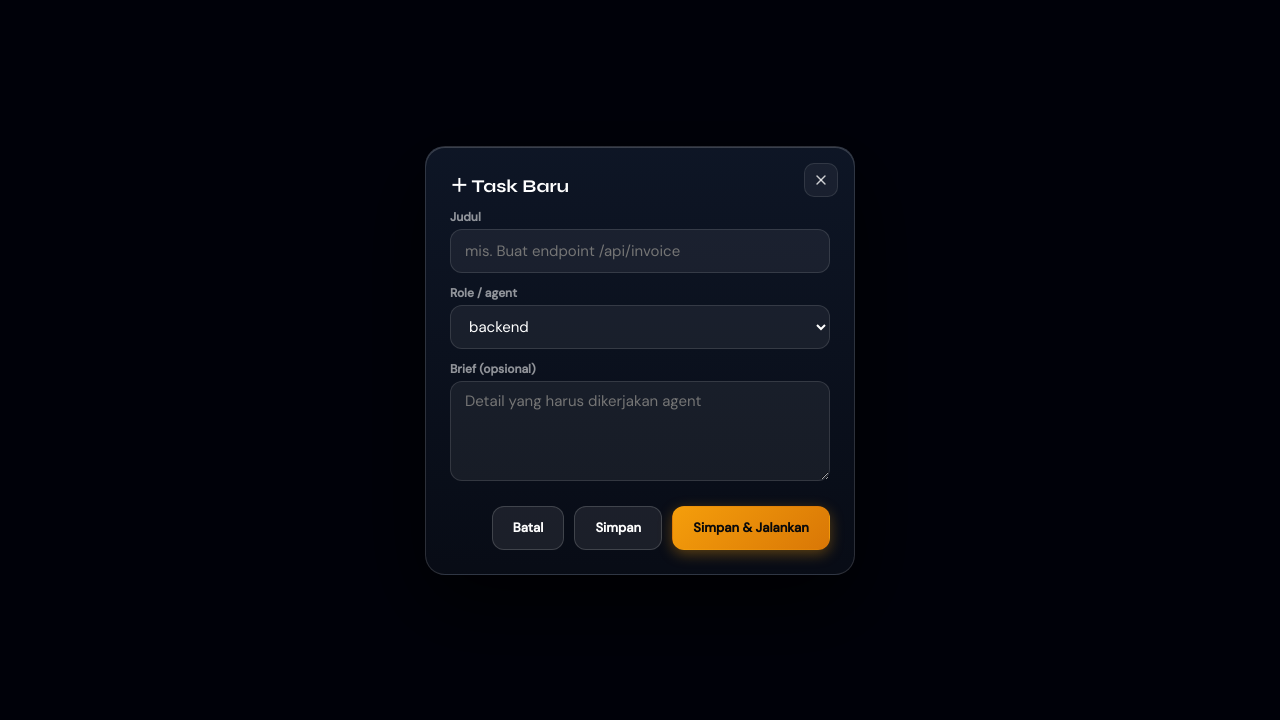
Test: components/TaskModal › API gagal → pesan error ditampilkan, modal tidak tertutup
Step 1. Type "X" into the field labelled "Judul" → (640, 250), box [450,228,830,272]
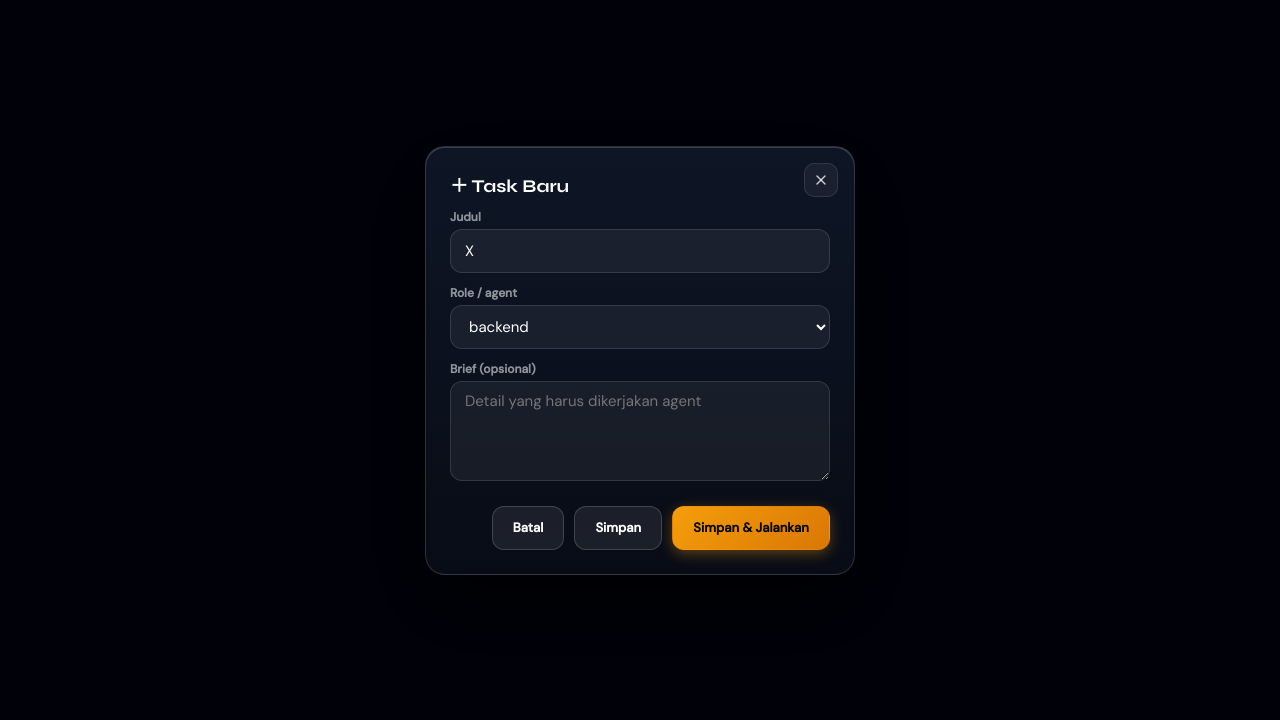
Step 2. Click the button "Simpan" → click(618, 528), box [574,506,662,550]
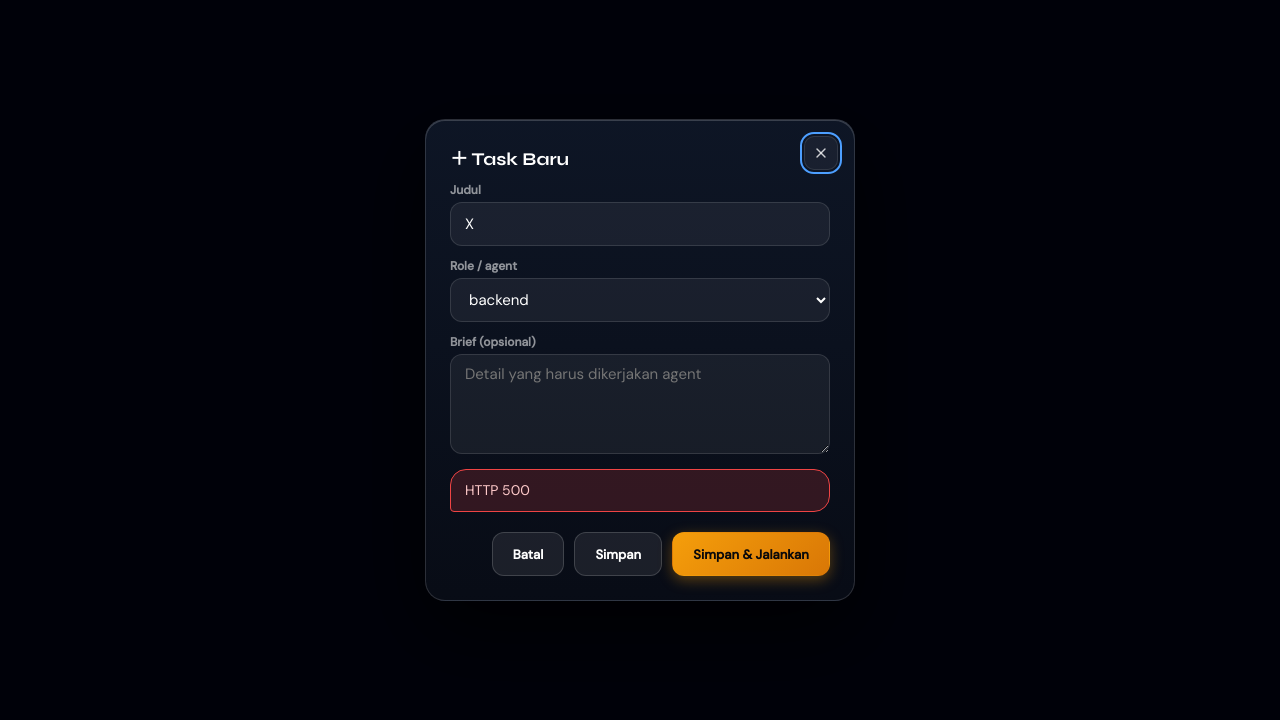
expect the message reads "HTTP 500": met, box [465,481,530,499]
